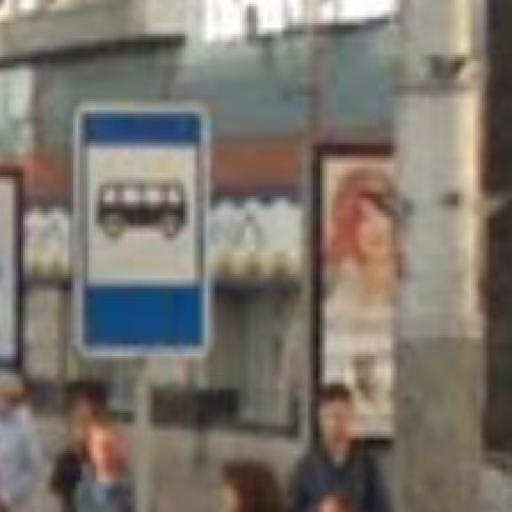traffic_sign: (78, 107, 213, 364)
